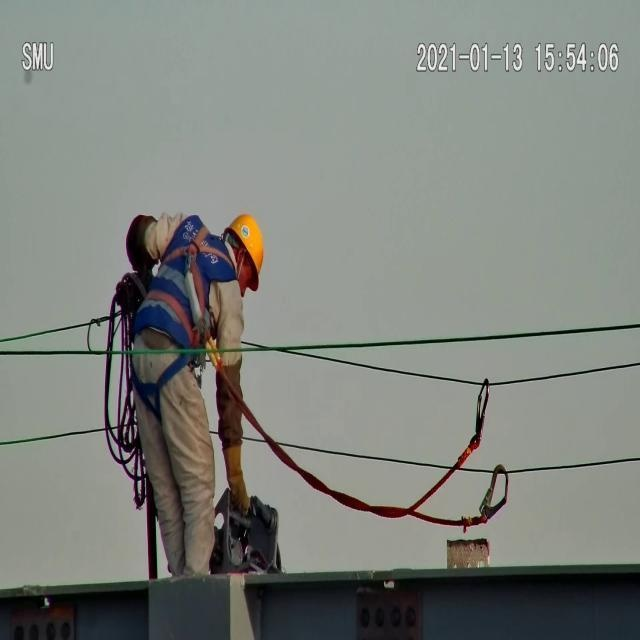Arnes_seguridad: (134, 215, 238, 341)
